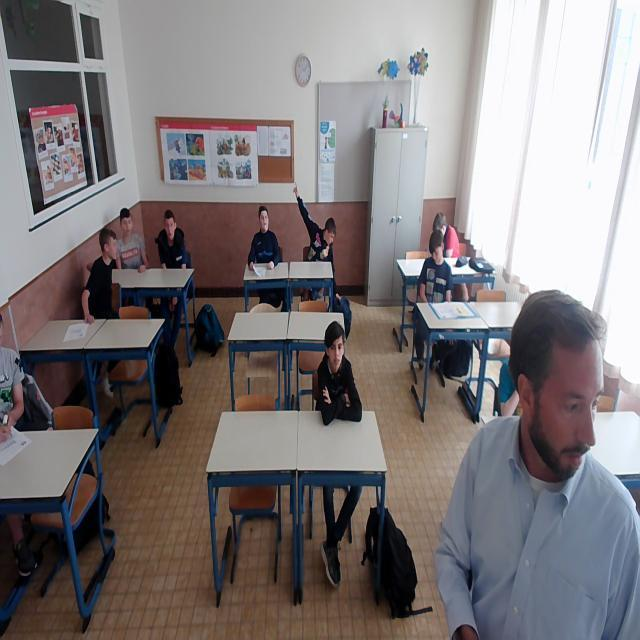Looking away: (431, 247, 444, 265)
Looking forward: (99, 231, 118, 259), (329, 344, 345, 369), (164, 219, 176, 240), (259, 210, 270, 230), (121, 218, 133, 236)
Raising hand: (284, 174, 347, 272)
